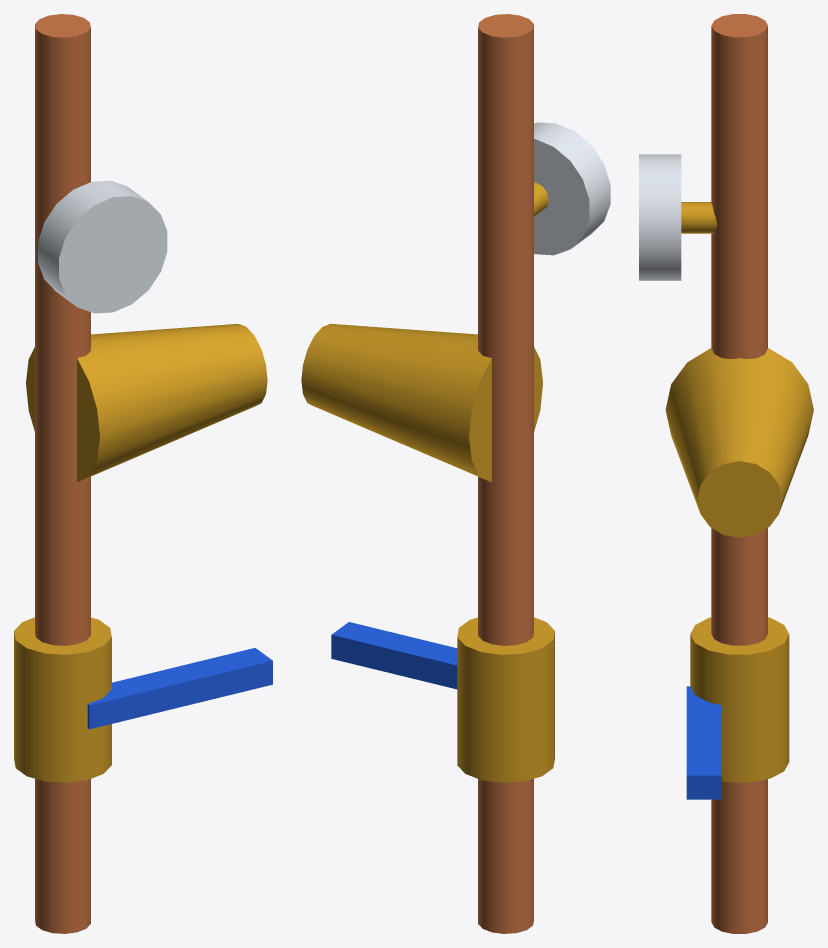
The model's file is main-shutoff-prv-assembly.glb.
The picture shows the model from 3 angles, left to right: view 1: azimuth 30°, elevation 25°; view 2: azimuth 150°, elevation 25°; view 3: azimuth 270°, elevation 25°; orthographic projection.
Visible parts, largest first — view 1: plumbing-equipment-main-shutoff-prv; view 2: plumbing-equipment-main-shutoff-prv; view 3: plumbing-equipment-main-shutoff-prv.
Part boxes in pixels (x1=…): plumbing-equipment-main-shutoff-prv: x1=14, y1=14, x2=272, y2=933; plumbing-equipment-main-shutoff-prv: x1=301, y1=14, x2=610, y2=933; plumbing-equipment-main-shutoff-prv: x1=639, y1=14, x2=813, y2=933.
Size of the model in its own units: 0.1555 by 0.56 by 0.099.
